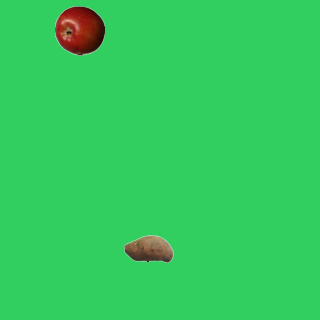Apple Braeburn: (54, 5, 104, 55)
Potato Sweet: (123, 223, 173, 273)
